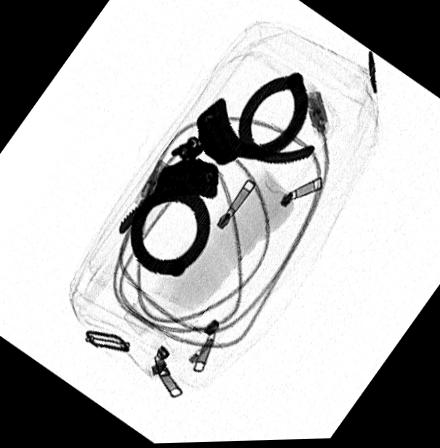HandCuffs: (115, 72, 315, 278)
